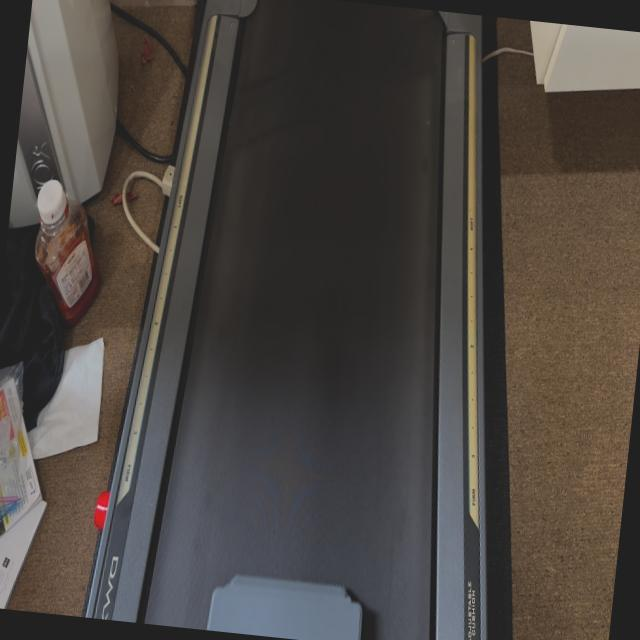Trash: (206, 568, 366, 640)
